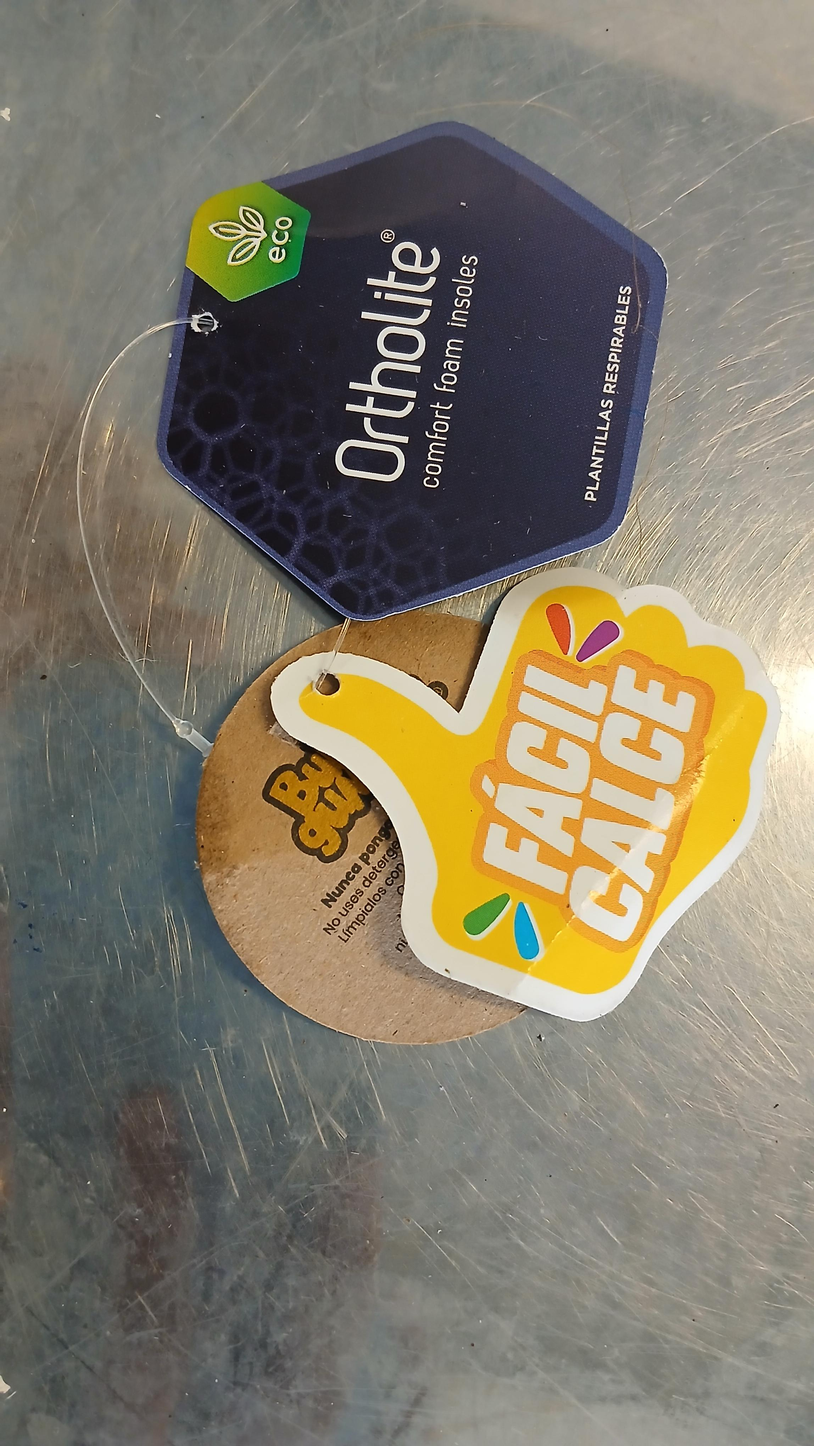Papel: (157, 121, 775, 1047)
